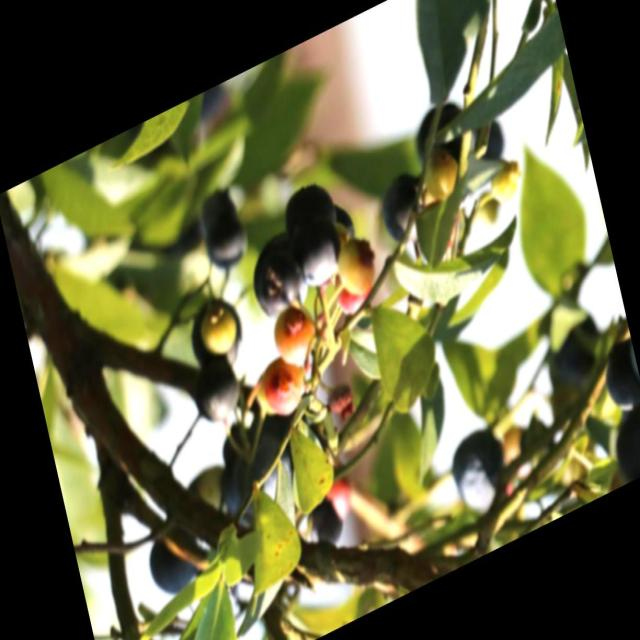blueberry: (213, 422, 303, 544), (441, 414, 516, 522), (244, 224, 314, 332), (408, 90, 480, 185), (180, 289, 248, 382), (142, 516, 207, 611), (277, 172, 343, 260), (375, 166, 430, 256), (288, 215, 346, 295), (188, 349, 243, 431), (595, 330, 640, 421), (599, 404, 640, 489), (202, 208, 252, 277), (301, 491, 349, 559)
blueberry-halfripe: (259, 348, 308, 427), (270, 302, 319, 375), (332, 232, 380, 302)
blueberry-unripe: (418, 141, 468, 212), (196, 292, 242, 360)
